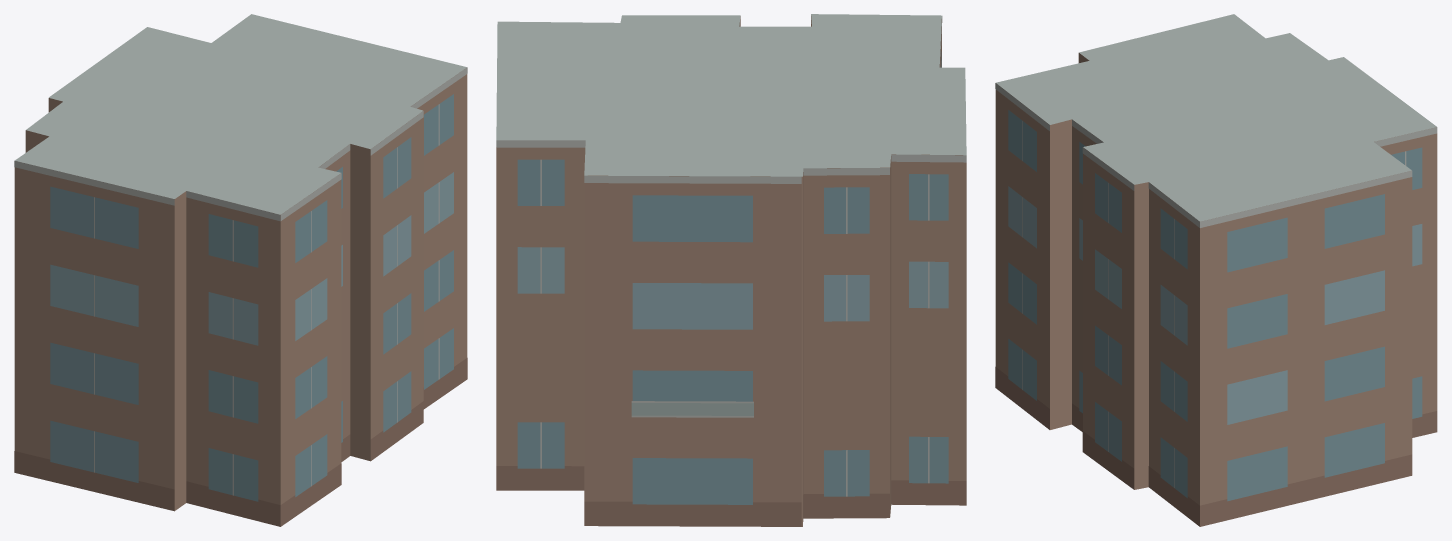
File: survey-upis-32612974.glb
3 views of the same model, side by side, from view 1: azimuth 30°, elevation 25°; view 2: azimuth 150°, elevation 25°; view 3: azimuth 270°, elevation 25° (orthographic). The views are drawn at different scales.
Parts seen in each view (by area): view 1: survey-upis-32612974.tmp; view 2: survey-upis-32612974.tmp; view 3: survey-upis-32612974.tmp.
Part boxes in pixels (x1=…): survey-upis-32612974.tmp: x1=14, y1=14, x2=467, y2=526; survey-upis-32612974.tmp: x1=496, y1=14, x2=966, y2=526; survey-upis-32612974.tmp: x1=995, y1=14, x2=1437, y2=526.
Bounding box in the file's own units: 16.95 × 11.6 × 15.23.
